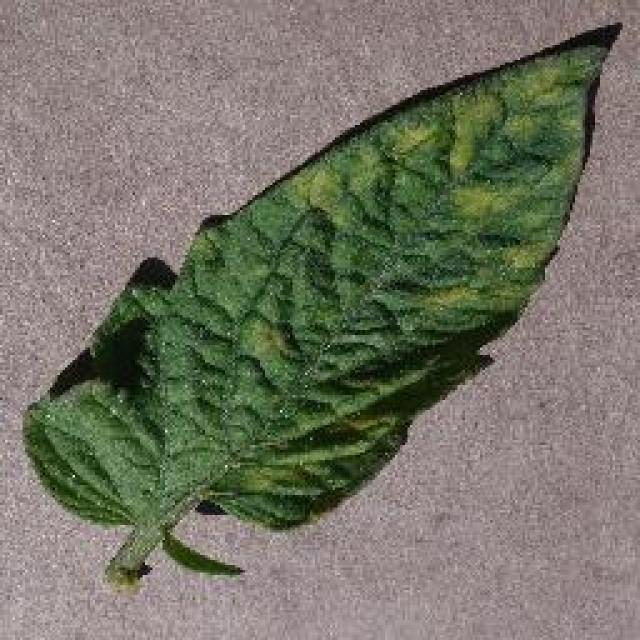Tomato mold leaf: (23, 39, 615, 566)
